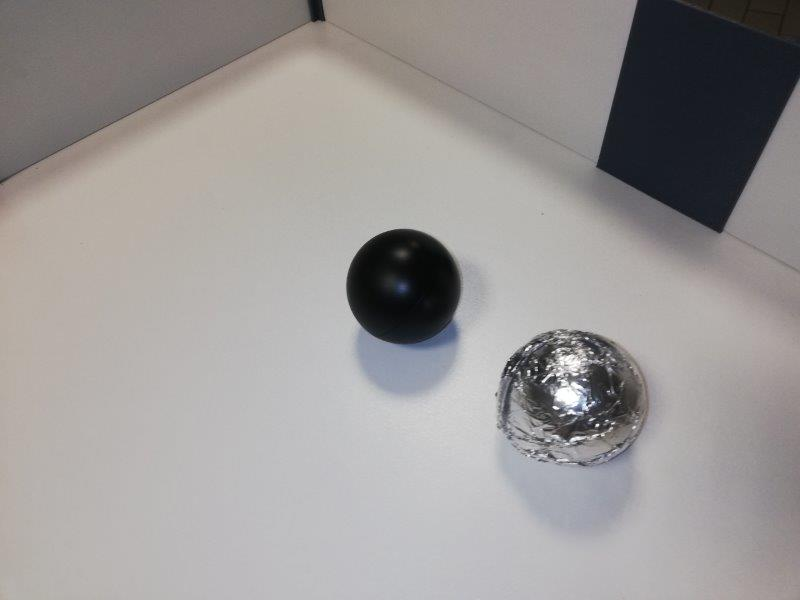bianca: (497, 329, 648, 468)
nera: (347, 229, 462, 345)
